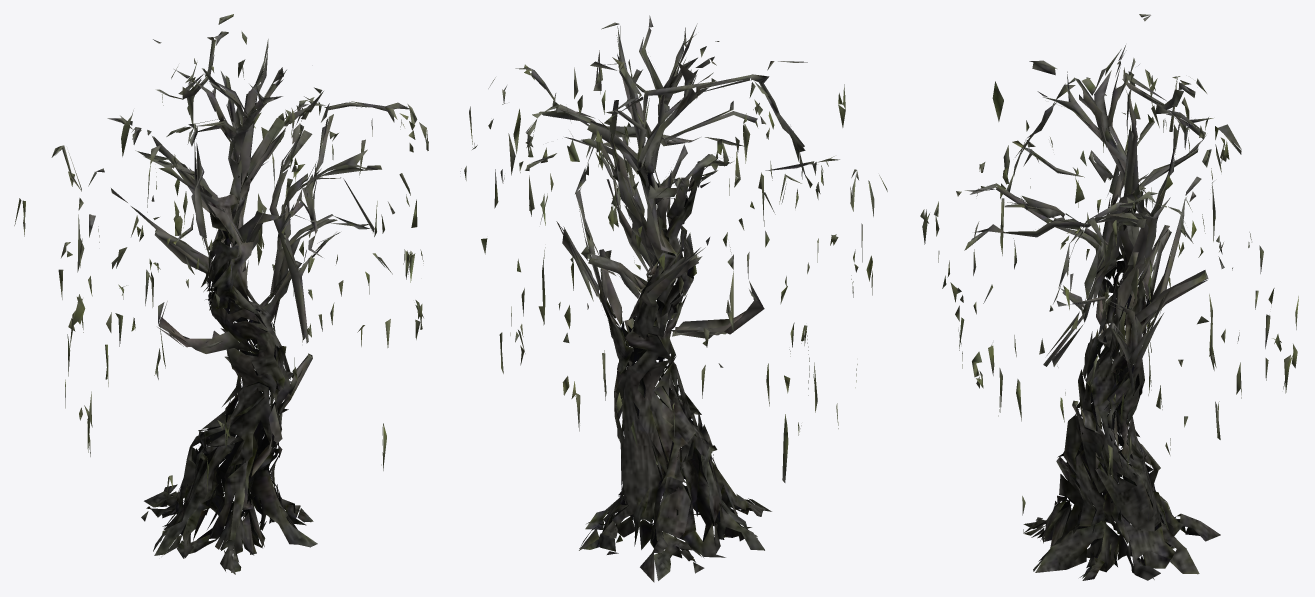
Rendered from salgueiro_brejo_morta.glb.
3 renders of one model, left to right at view 1: azimuth 30°, elevation 25°; view 2: azimuth 150°, elevation 25°; view 3: azimuth 270°, elevation 25°, orthographic. The views are drawn at different scales.
Visible parts, largest first — view 1: geometry_0; view 2: geometry_0; view 3: geometry_0.
Part boxes in pixels (<box>): geometry_0: <box>14,14,428,574</box>; geometry_0: <box>460,15,887,582</box>; geometry_0: <box>920,14,1298,580</box>.
Size of the model in its own units: 0.7872 by 1.01 by 0.6712.
1 material, 1 textured.
